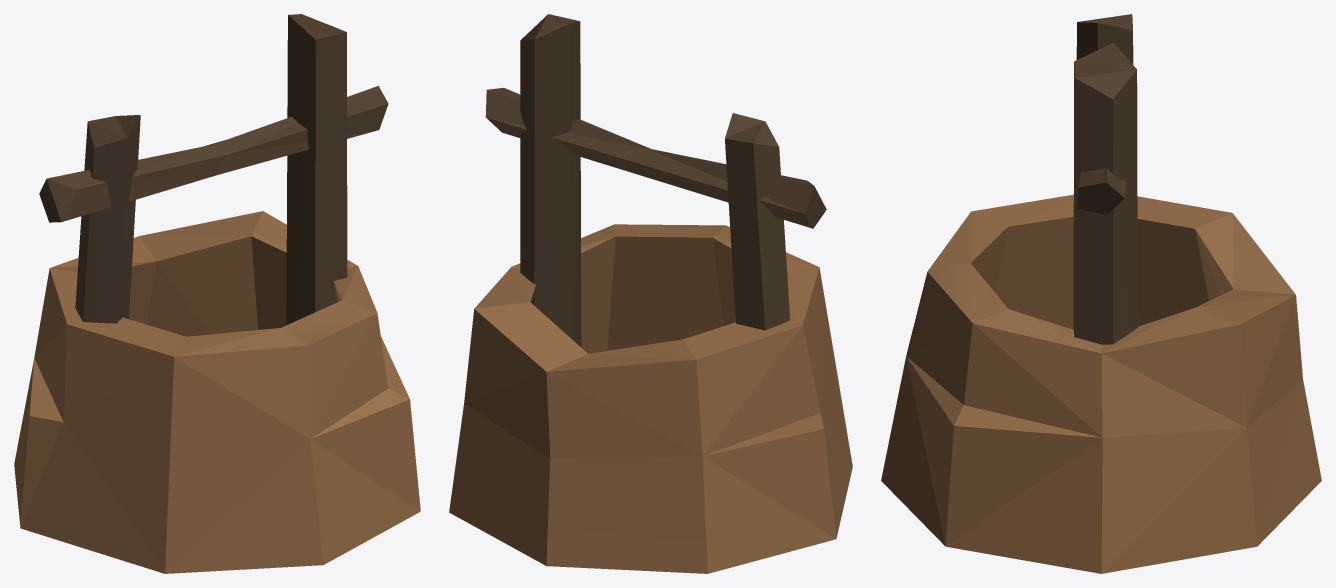
Rendered from Well_01.fbx.
The picture shows the model from 3 angles, left to right: view 1: azimuth 30°, elevation 25°; view 2: azimuth 150°, elevation 25°; view 3: azimuth 270°, elevation 25°; orthographic projection. The views are drawn at different scales.
Visible parts, largest first — view 1: Well_01; view 2: Well_01; view 3: Well_01.
Part boxes in pixels (x1=…): Well_01: x1=14, y1=14, x2=420, y2=573; Well_01: x1=449, y1=14, x2=852, y2=573; Well_01: x1=881, y1=14, x2=1321, y2=573.
Bounding box in the file's own units: 320 × 371 × 311.
